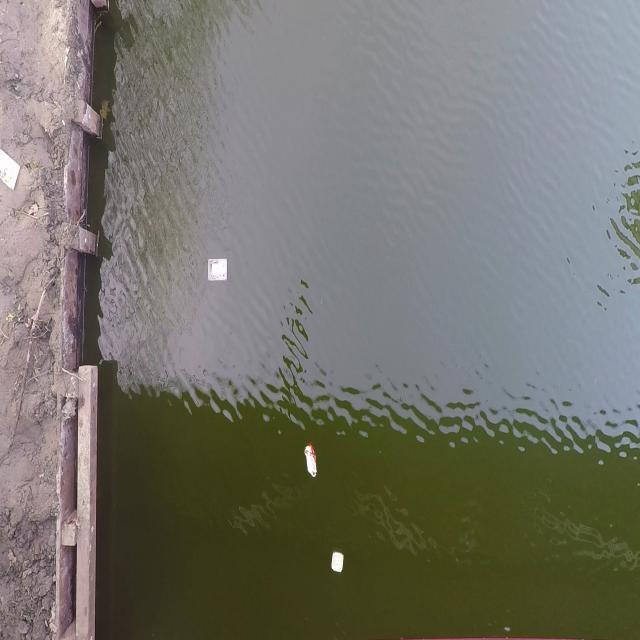Autre plastique: (198, 253, 234, 291)
Non plastique: (301, 440, 321, 492)
